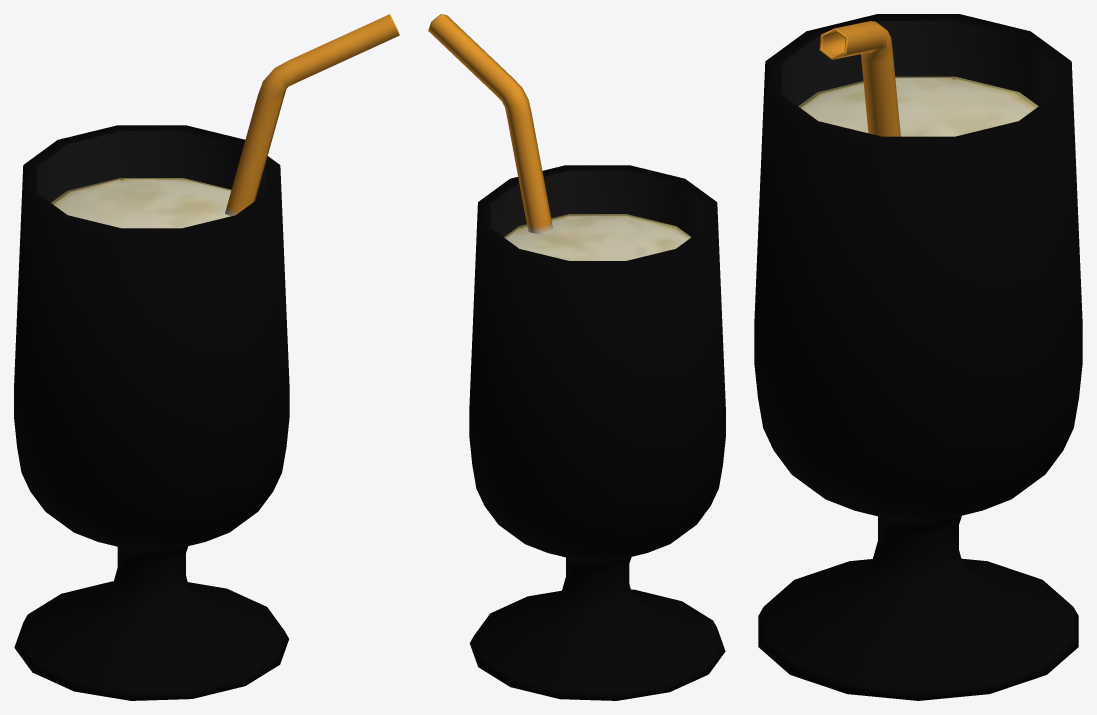
3 views of the same model, side by side, from view 1: azimuth 30°, elevation 25°; view 2: azimuth 150°, elevation 25°; view 3: azimuth 270°, elevation 25° (orthographic). The views are drawn at different scales.
Bounding box in the file's own units: 3.46 × 6.04 × 2.49.
Materials: 3 (3 with a texture image).
